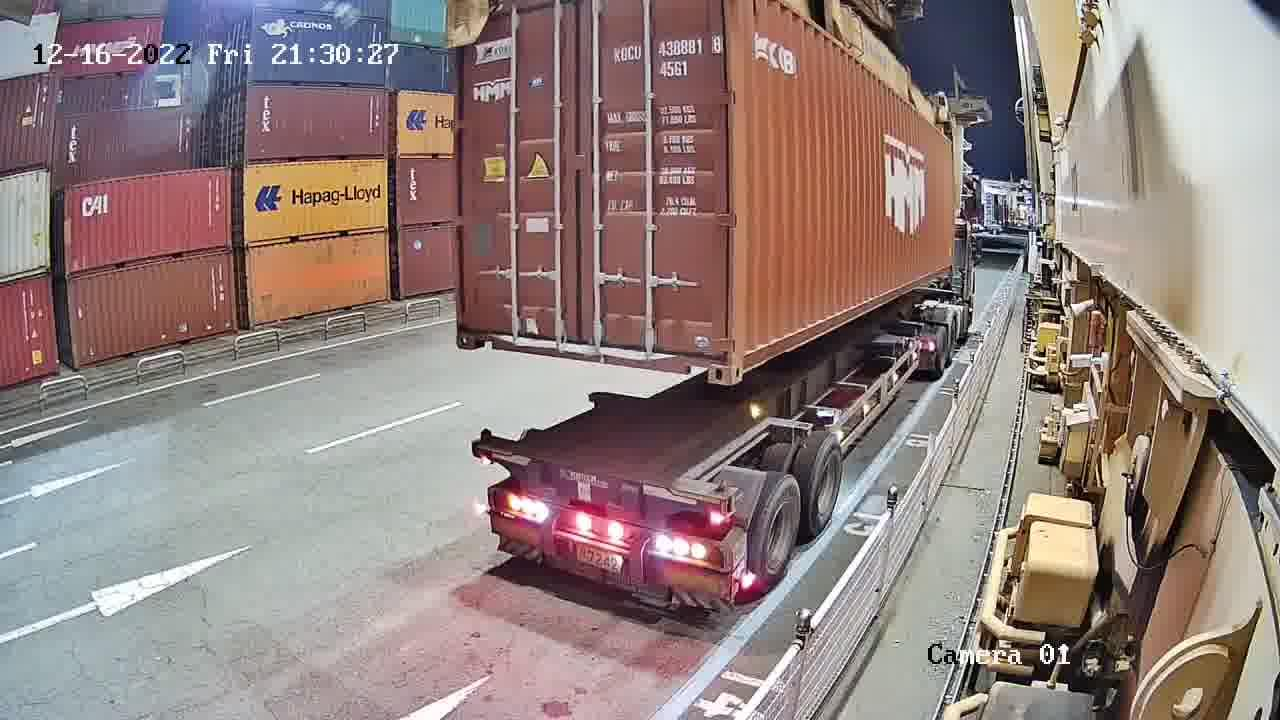Chassis: (474, 447, 731, 544)
Container: (455, 310, 731, 388)
Hole_L: (731, 332, 757, 384), (456, 309, 486, 349)
Hole_R: (692, 336, 731, 386)
Tire: (749, 476, 802, 593), (805, 439, 847, 543)
